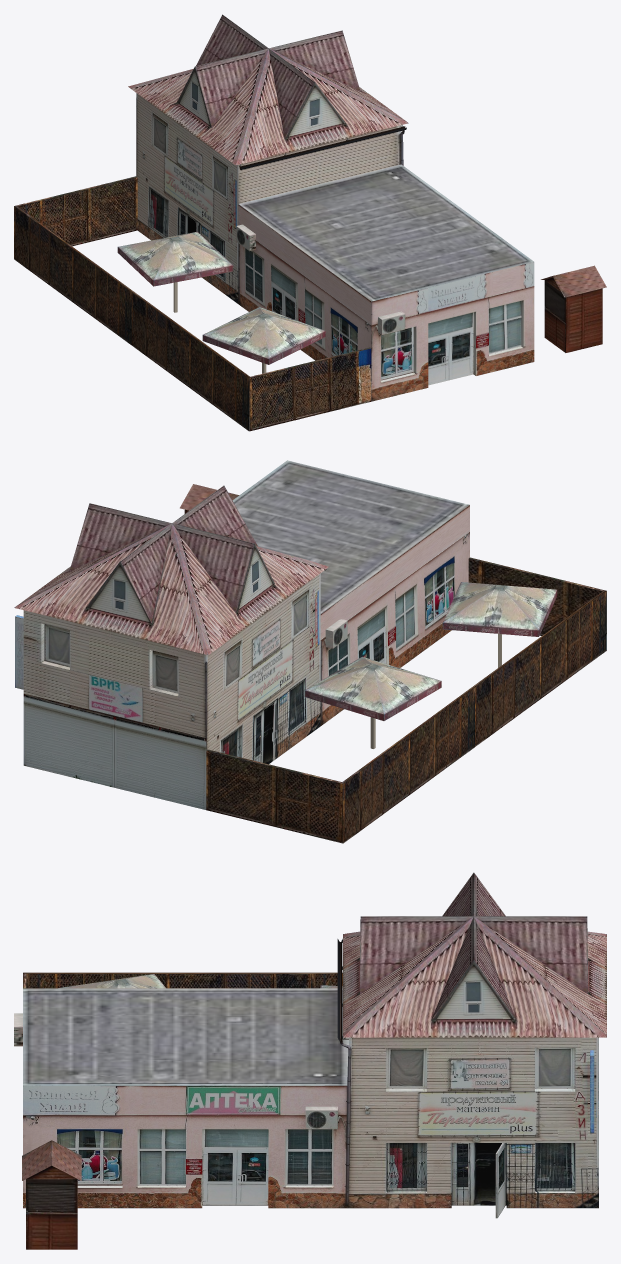
The model's file is shop_house.glb.
The picture shows the model from 3 angles, top to bottom: view 1: azimuth 30°, elevation 25°; view 2: azimuth 150°, elevation 25°; view 3: azimuth 270°, elevation 25°; orthographic projection. The views are drawn at different scales.
Visible parts, largest first — view 1: shop_house; view 2: shop_house; view 3: shop_house.
Boxes of the visible parts, x1,y1,x2,y2 form: shop_house: (14, 14, 606, 431); shop_house: (14, 460, 606, 843); shop_house: (14, 872, 606, 1249).
Size of the model in its own units: 17.54 by 9.33 by 20.59.
1 material, 1 textured.
